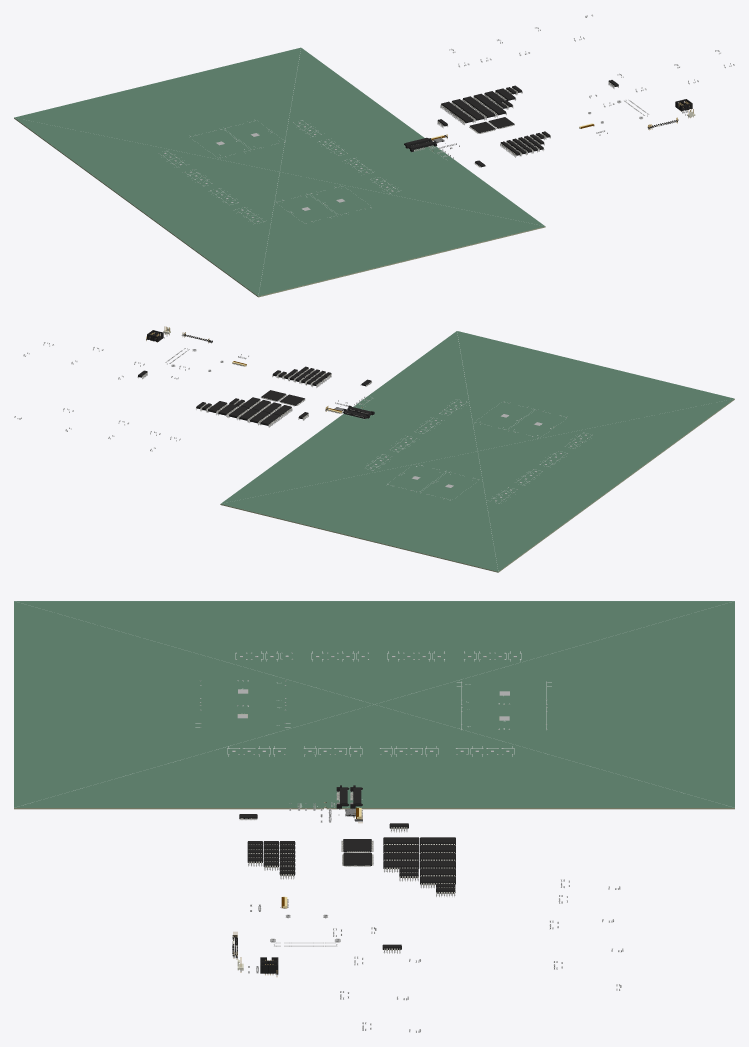
File: board.glb
3 views of the same model, one above another, from view 1: azimuth 30°, elevation 25°; view 2: azimuth 150°, elevation 25°; view 3: azimuth 270°, elevation 25° (orthographic). The views are drawn at different scales.
Visible parts, largest first — view 1: board_soldermask, board_PCB, board_pad; view 2: board_soldermask, board_PCB, board_pad; view 3: board_soldermask, board_PCB, board_pad, board_silkscreen.
Part boxes in pixels (<box>): board_soldermask: <box>14,47,545,296</box>; board_PCB: <box>14,48,545,297</box>; board_pad: <box>158,14,734,223</box>; board_soldermask: <box>221,331,734,571</box>; board_PCB: <box>220,332,734,572</box>; board_pad: <box>14,333,592,503</box>; board_soldermask: <box>14,601,734,807</box>; board_PCB: <box>14,602,734,809</box>; board_pad: <box>200,652,623,1032</box>; board_silkscreen: <box>23,651,726,807</box>.
Bounding box in the file's own units: 1 × 0.0135 × 0.711.
